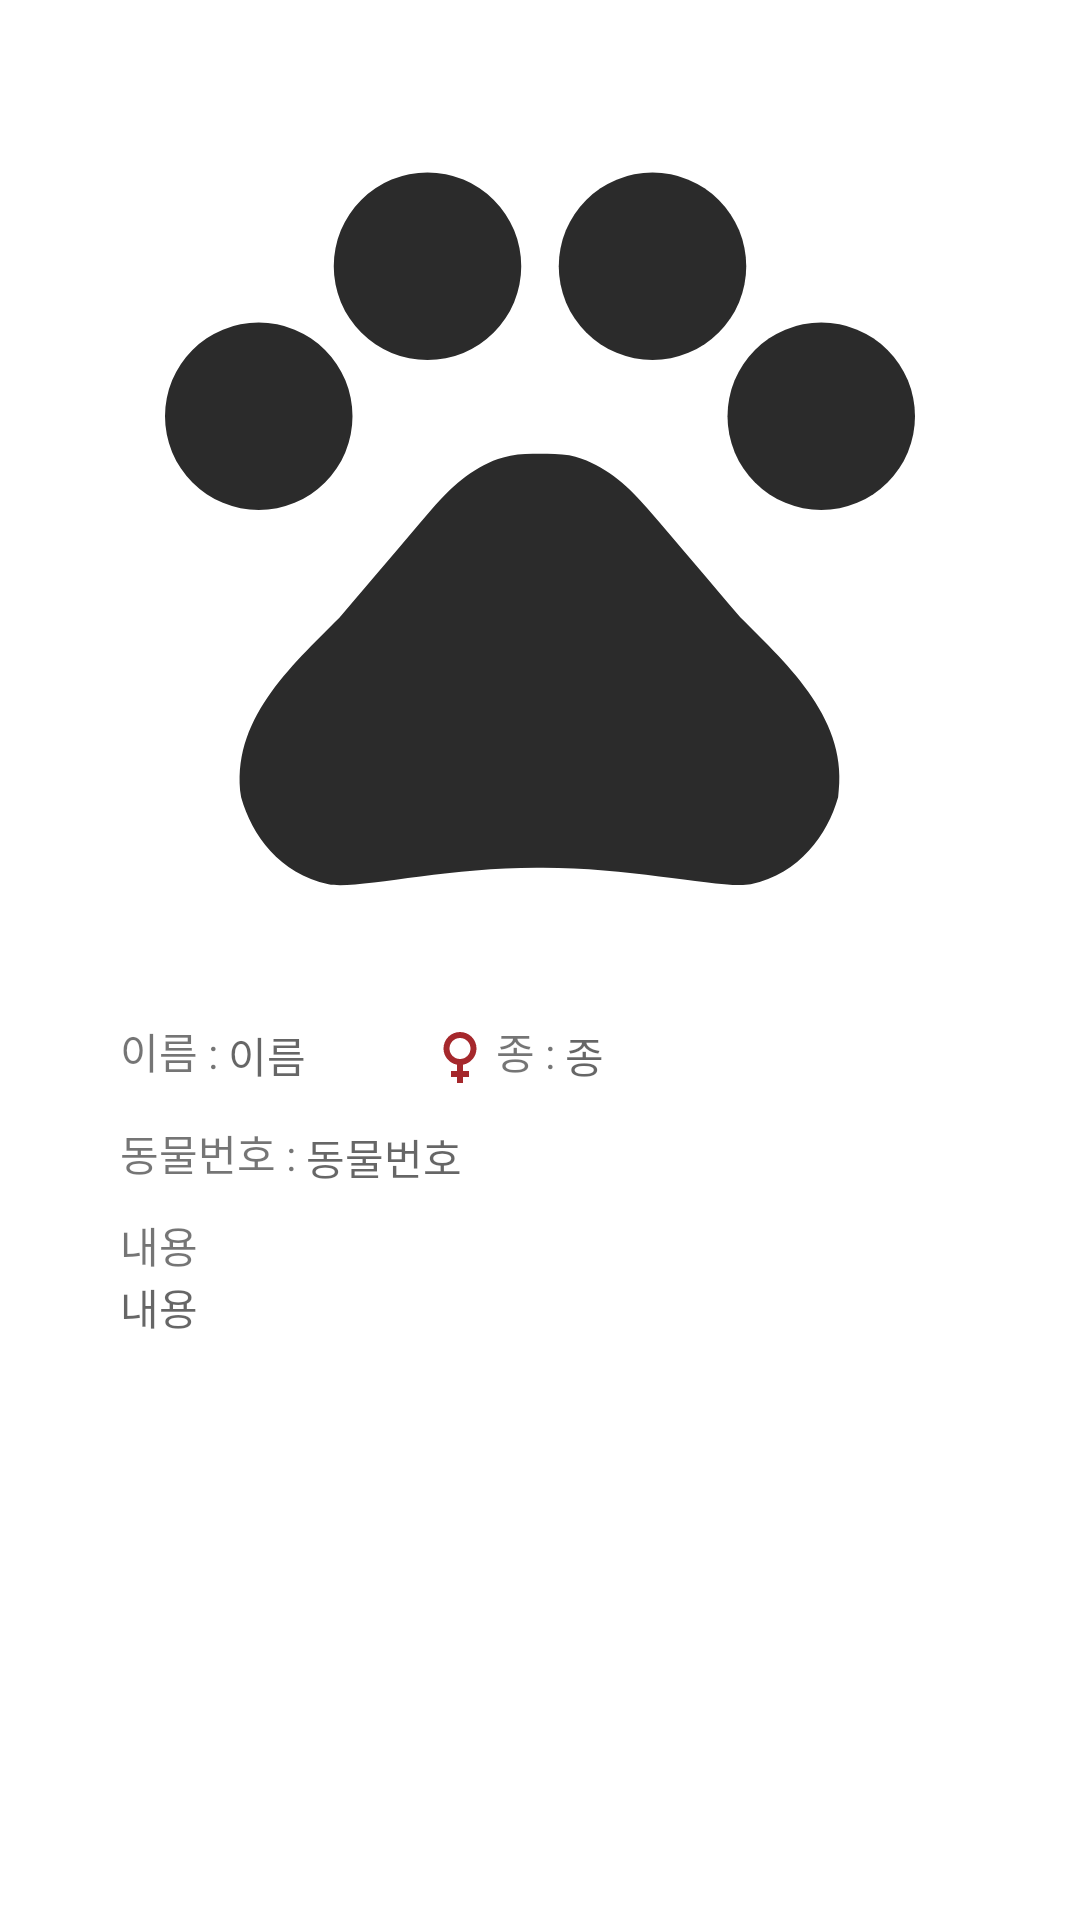

Screen size 1080px x 1920px. Icon name, then its center in pixels as (x,y):
female: (460,1057)
